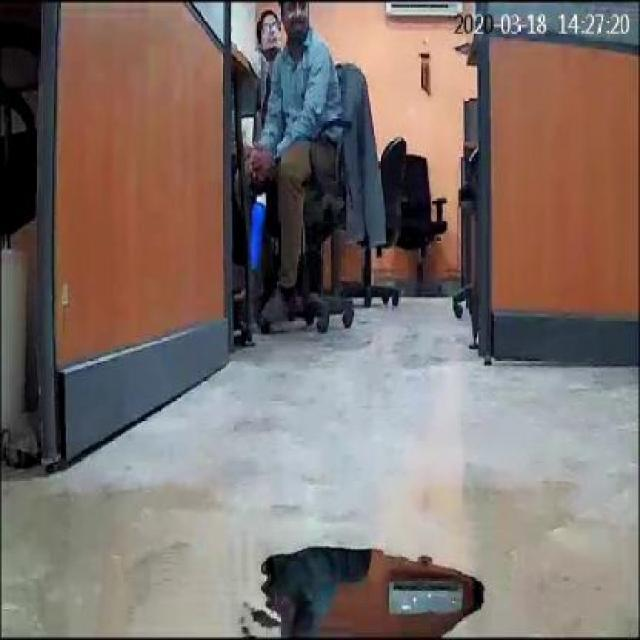spill: (256, 546, 489, 640)
